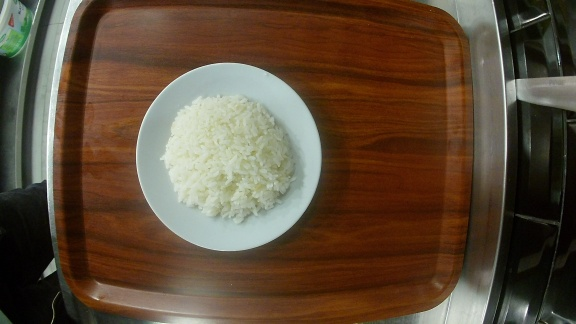pilav: (136, 63, 322, 252)
